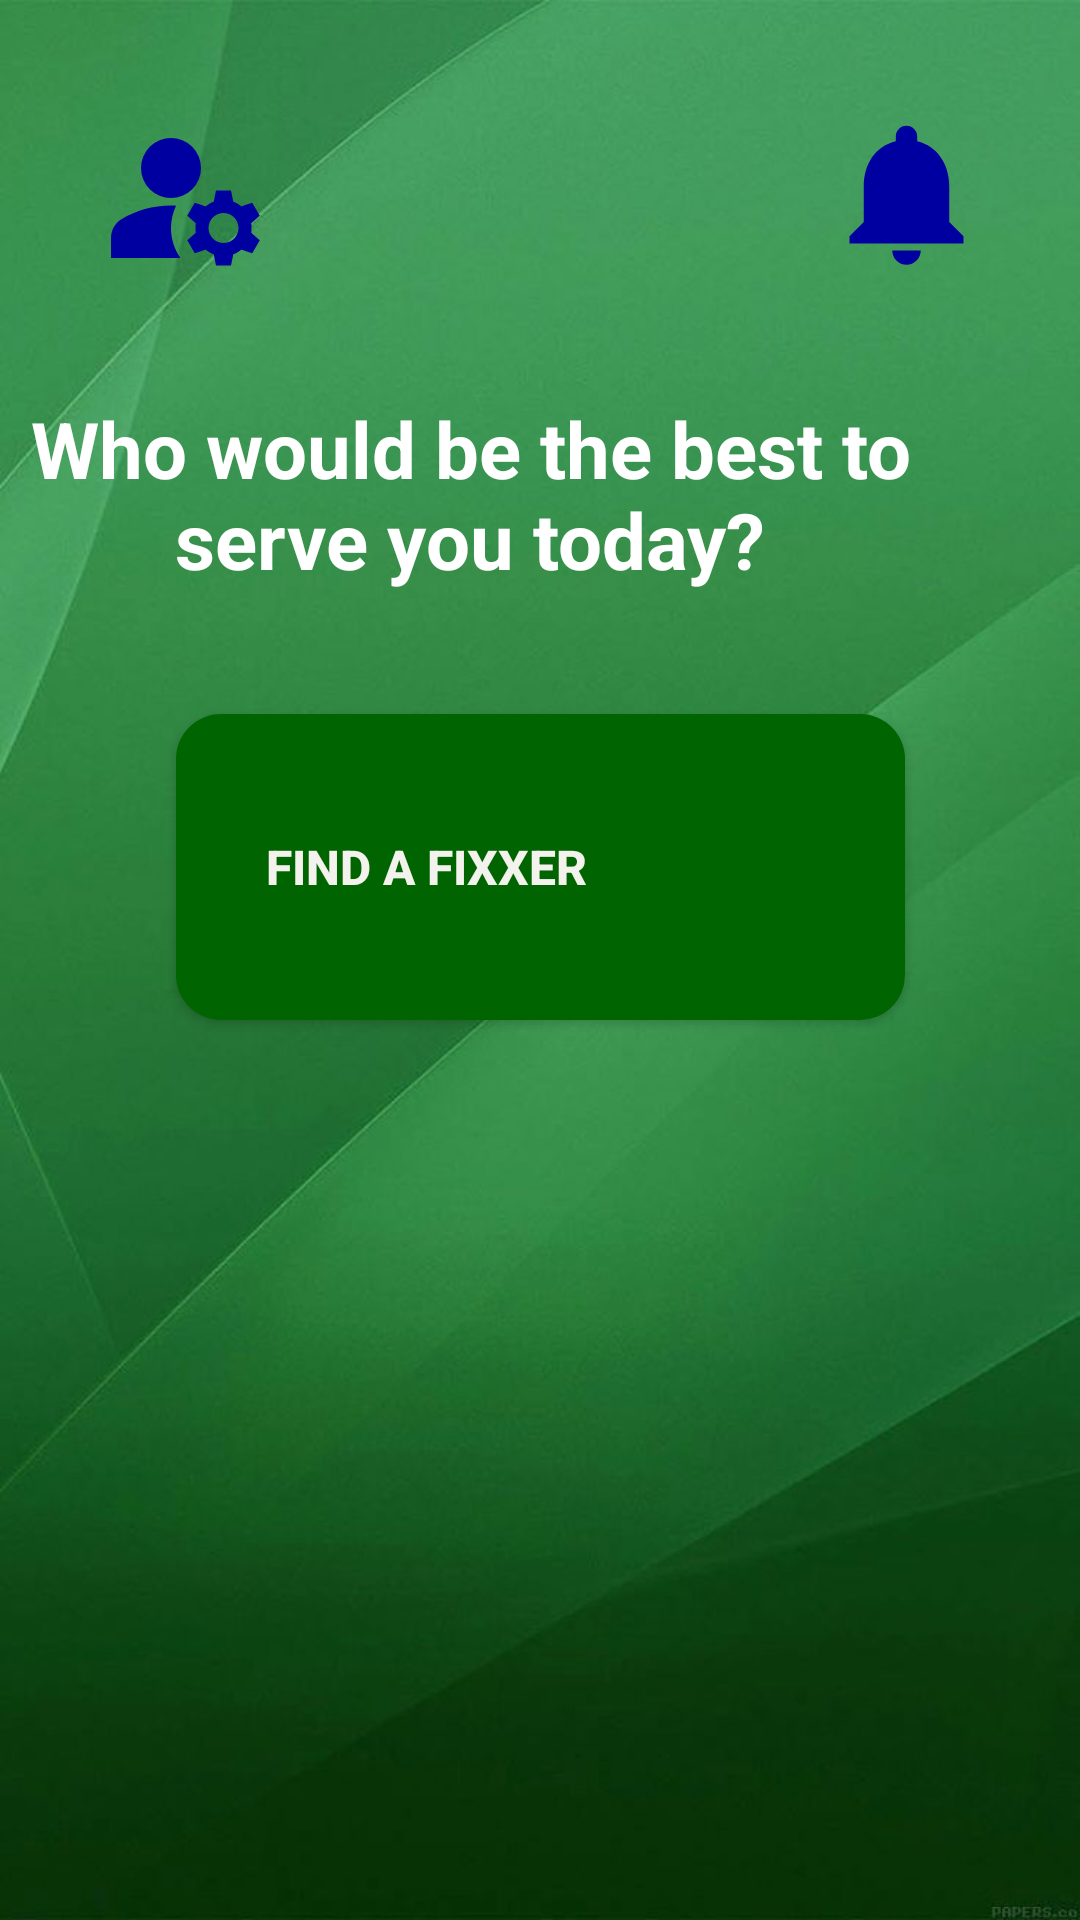

Where icons sit on this 1080x1920 app screen, as Rect(x1, y1, x2, y2):
notification: Rect(849, 125, 964, 265)
